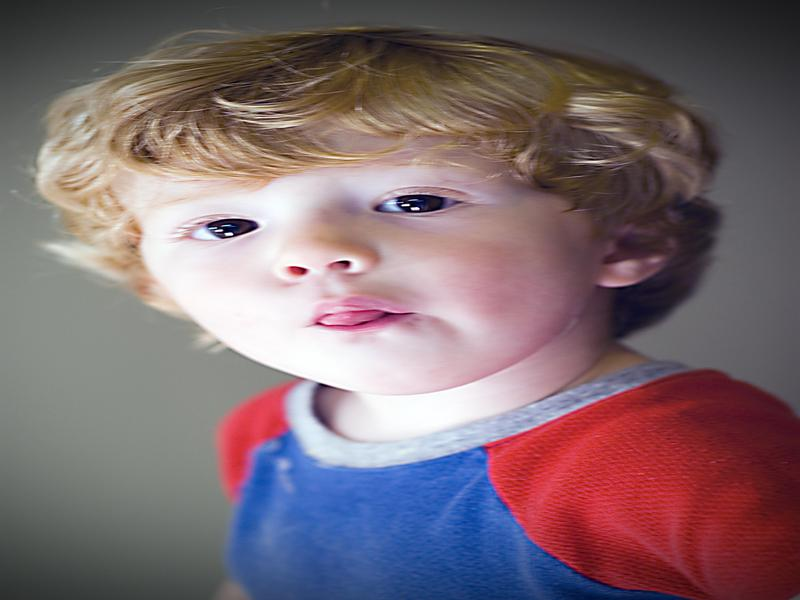person: (33, 16, 789, 600)
